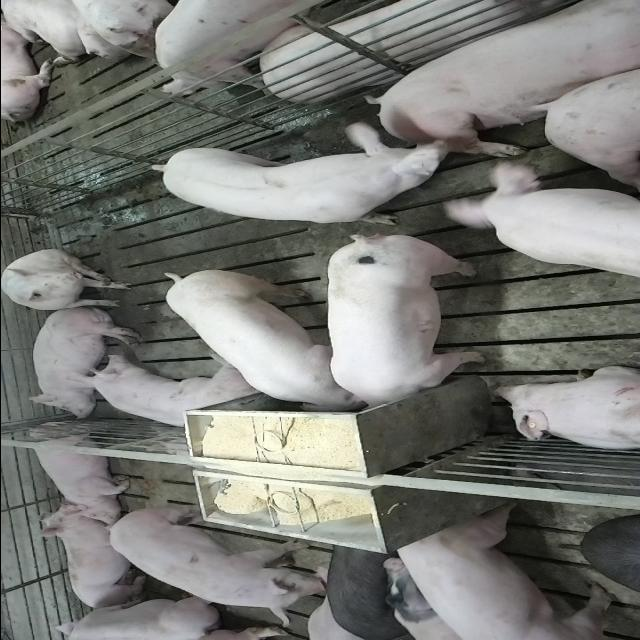Feeding: (160, 264, 362, 412), (324, 240, 484, 418)
Lateral_lying: (369, 4, 640, 160), (256, 0, 596, 101), (23, 306, 140, 419)
Sitting: (2, 250, 134, 312)
Standing: (146, 120, 452, 223), (388, 512, 633, 638), (103, 508, 329, 624), (439, 158, 640, 286), (158, 0, 348, 94), (324, 538, 413, 639)
Sternal_lying: (75, 354, 259, 434), (490, 366, 640, 452), (38, 506, 152, 612), (21, 424, 132, 516)
